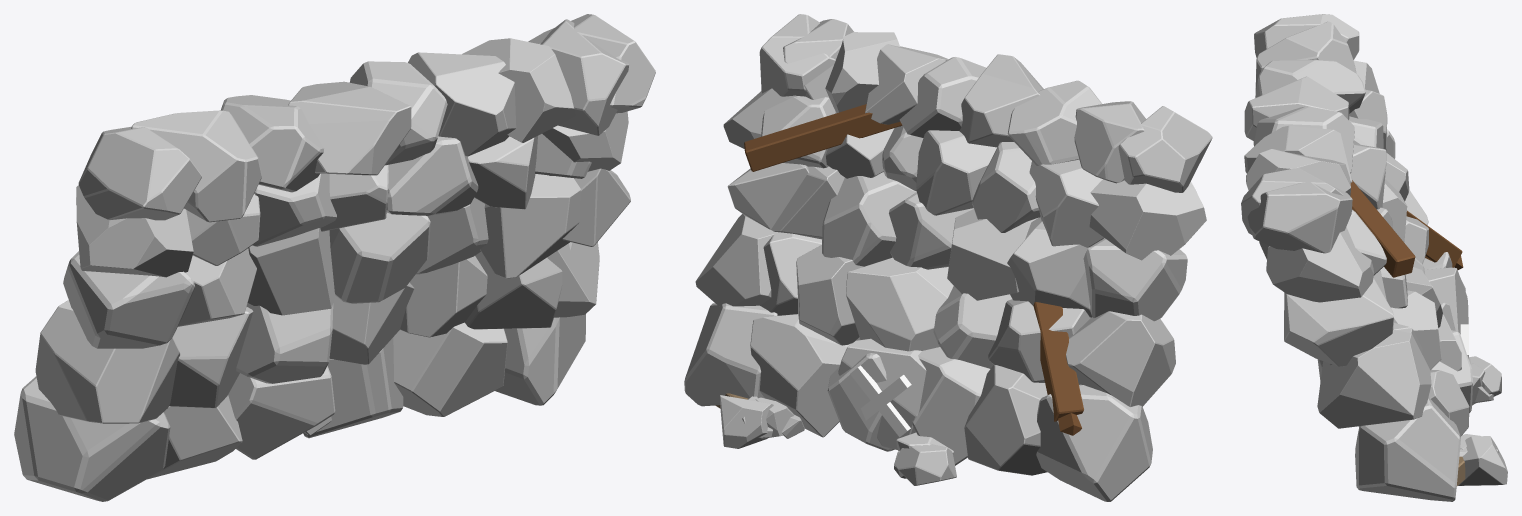
File: RubbleTunnel.glb
The picture shows the model from 3 angles, left to right: view 1: azimuth 30°, elevation 25°; view 2: azimuth 150°, elevation 25°; view 3: azimuth 270°, elevation 25°; orthographic projection. The views are drawn at different scales.
Parts seen in each view (by area): view 1: Body; view 2: Body, Timber, Marks; view 3: Body, Timber.
Part boxes in pixels (x1,y1,x2,y2): Body: [14, 14, 655, 501]; Body: [684, 14, 1212, 501]; Timber: [715, 104, 1083, 435]; Marks: [850, 365, 911, 437]; Body: [1241, 14, 1507, 501]; Timber: [1350, 180, 1465, 486].
Size of what is drawn, in the model's own units: 18.14 by 12.6 by 9.76.
